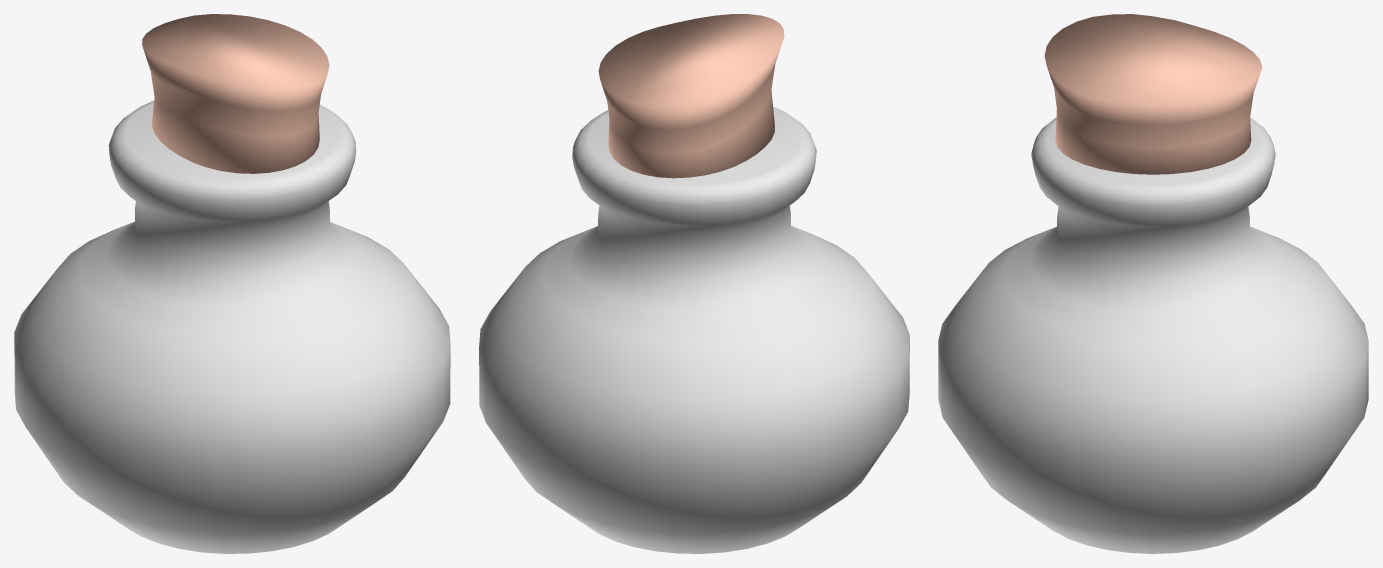
File: potion.fbx
The picture shows the model from 3 angles, left to right: view 1: azimuth 30°, elevation 25°; view 2: azimuth 150°, elevation 25°; view 3: azimuth 270°, elevation 25°; orthographic projection.
Parts seen in each view (by area): view 1: potion; view 2: potion; view 3: potion.
Part boxes in pixels (<box>): potion: <box>14,14,450,553</box>; potion: <box>479,14,909,553</box>; potion: <box>938,14,1368,553</box>.
Size of the model in its own units: 68.28 by 80.42 by 68.28.
